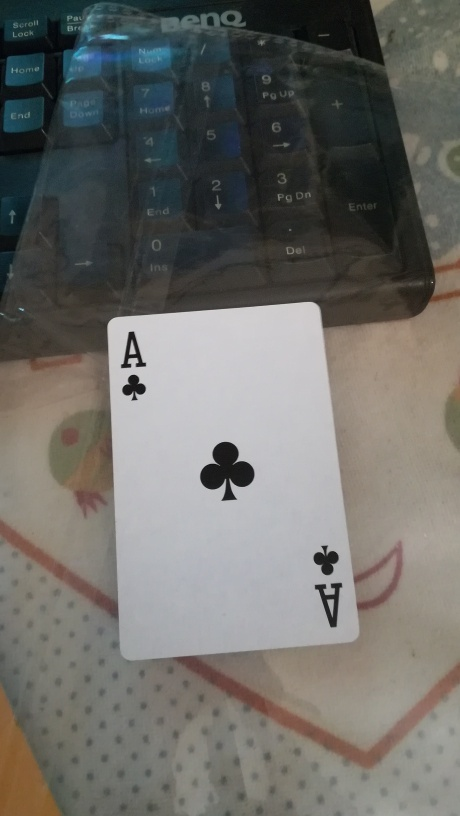mh a: (106, 301, 362, 660)
